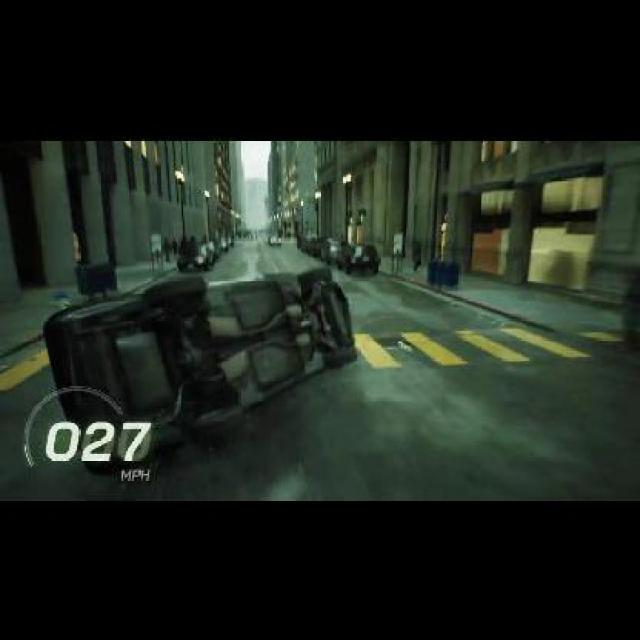accident: (40, 264, 360, 473)
